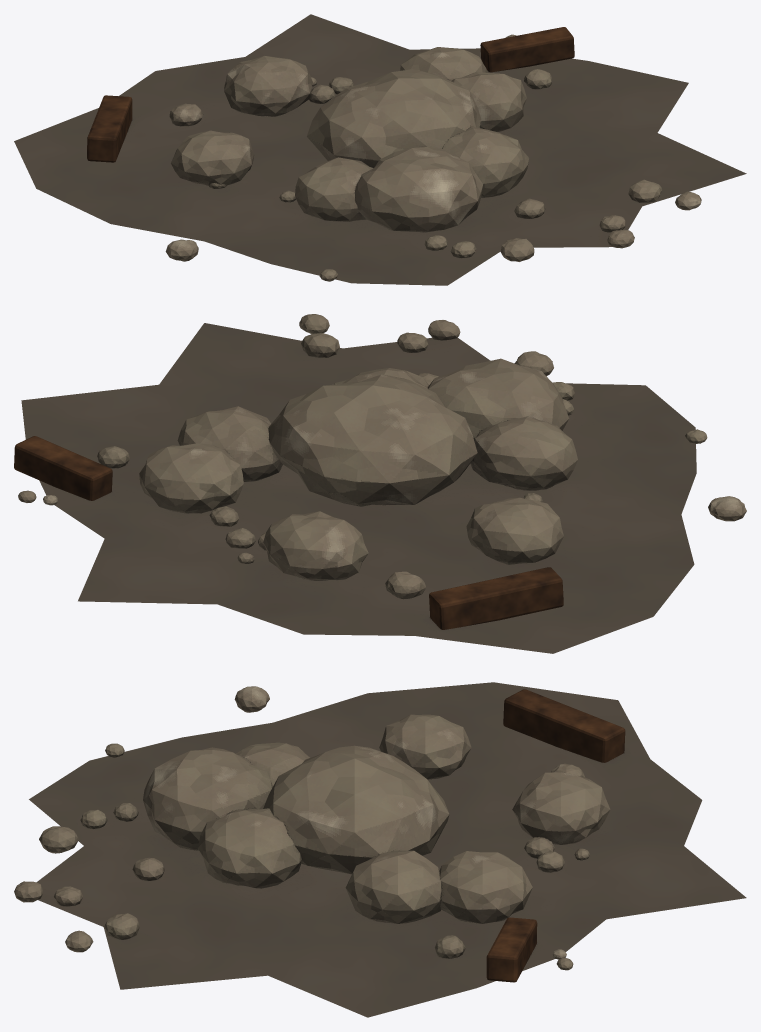
The model's file is trap_mine_heavy_sprung.glb.
The picture shows the model from 3 angles, top to bottom: view 1: azimuth 30°, elevation 25°; view 2: azimuth 150°, elevation 25°; view 3: azimuth 270°, elevation 25°; orthographic projection. The views are drawn at different scales.
Visible parts, largest first — view 1: trap_mine_heavy_sprung; view 2: trap_mine_heavy_sprung; view 3: trap_mine_heavy_sprung.
Boxes of the visible parts, bbox=[...] form: trap_mine_heavy_sprung: bbox=[14, 14, 746, 285]; trap_mine_heavy_sprung: bbox=[14, 314, 746, 653]; trap_mine_heavy_sprung: bbox=[14, 682, 746, 1017].
Size of the model in its own units: 3.03 by 0.4526 by 2.8.
3 materials, 3 textured.
